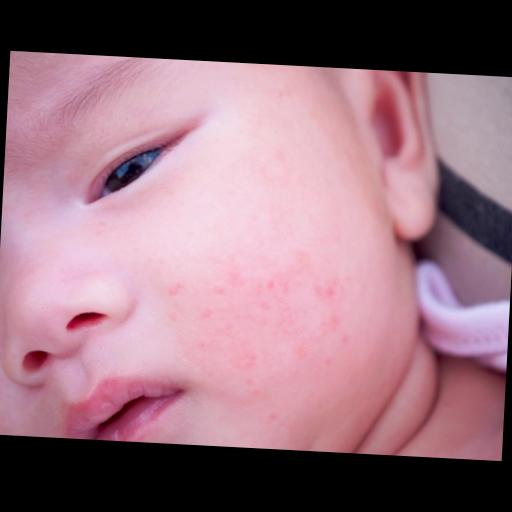Skin_Lesion: (320, 278, 342, 304), (258, 274, 280, 298), (240, 351, 263, 369), (322, 313, 341, 331), (168, 282, 186, 296), (216, 285, 228, 300)
